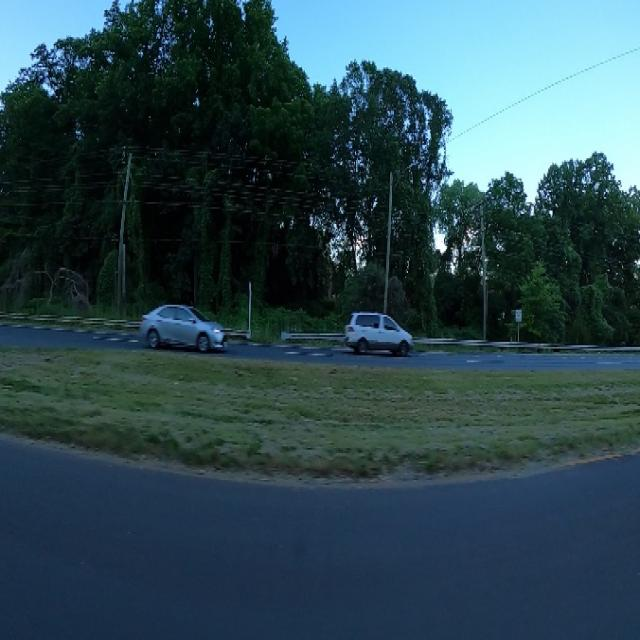cars: (132, 296, 228, 362), (340, 293, 413, 362)
